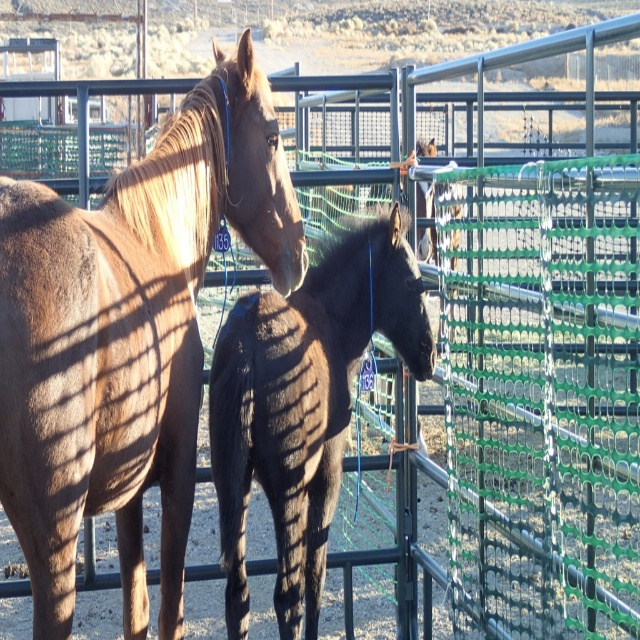Horse: (0, 19, 312, 639), (204, 191, 439, 639)
